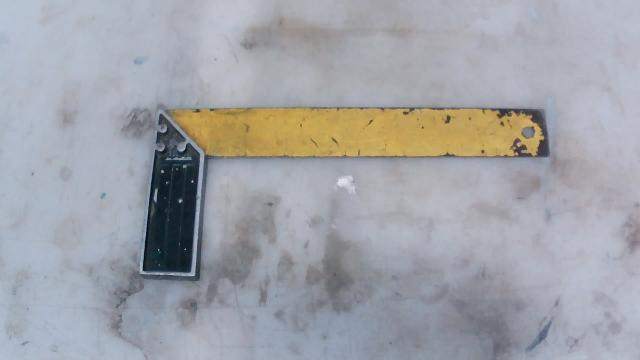penggaris_siku: (133, 62, 560, 327)
